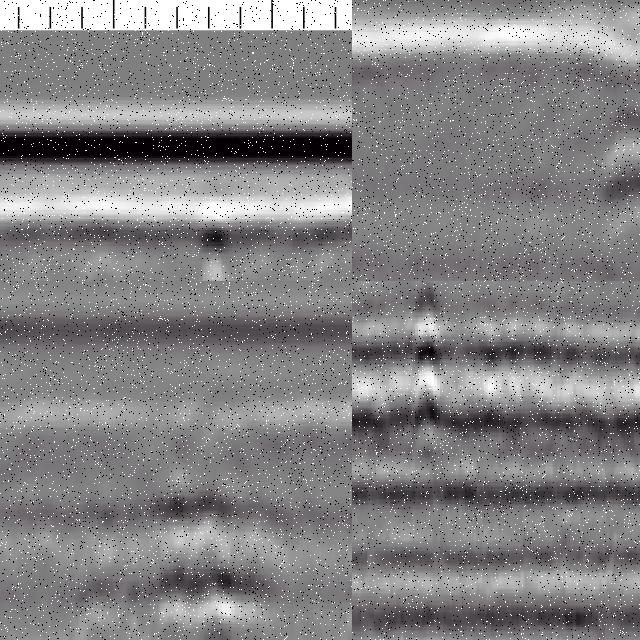crack: (412, 282, 441, 491)
loose: (86, 485, 293, 632), (603, 88, 640, 232)
